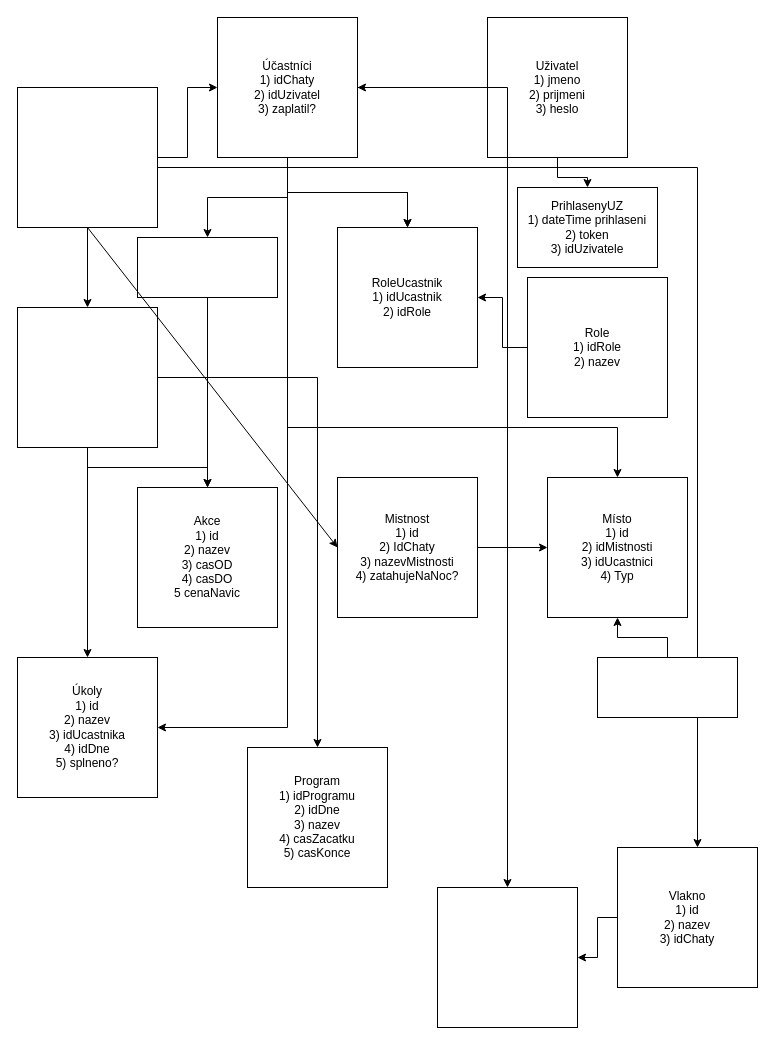
The diagram is 775 pixels wide and 1045 high, and some of its shapes have lost their labels. Here are the shapes that lost their labels. From the top down, the centre of each, then its label:
At pixel 87 157: "Chata 1) idChaty 2) Jmeno 3) Cena 4) Zacatek 5) Konec 6) Kapacita".
At pixel 207 267: "ucastnikAkce 1) idUcastnik 2) idAkce".
At pixel 87 377: "Den 1) idChaty 2) Datum".
At pixel 667 687: "Typ 1) id 2) jmeno".
At pixel 507 957: "zprava 1) id 2) idUcastnik 3) idVlakno 4) content".
